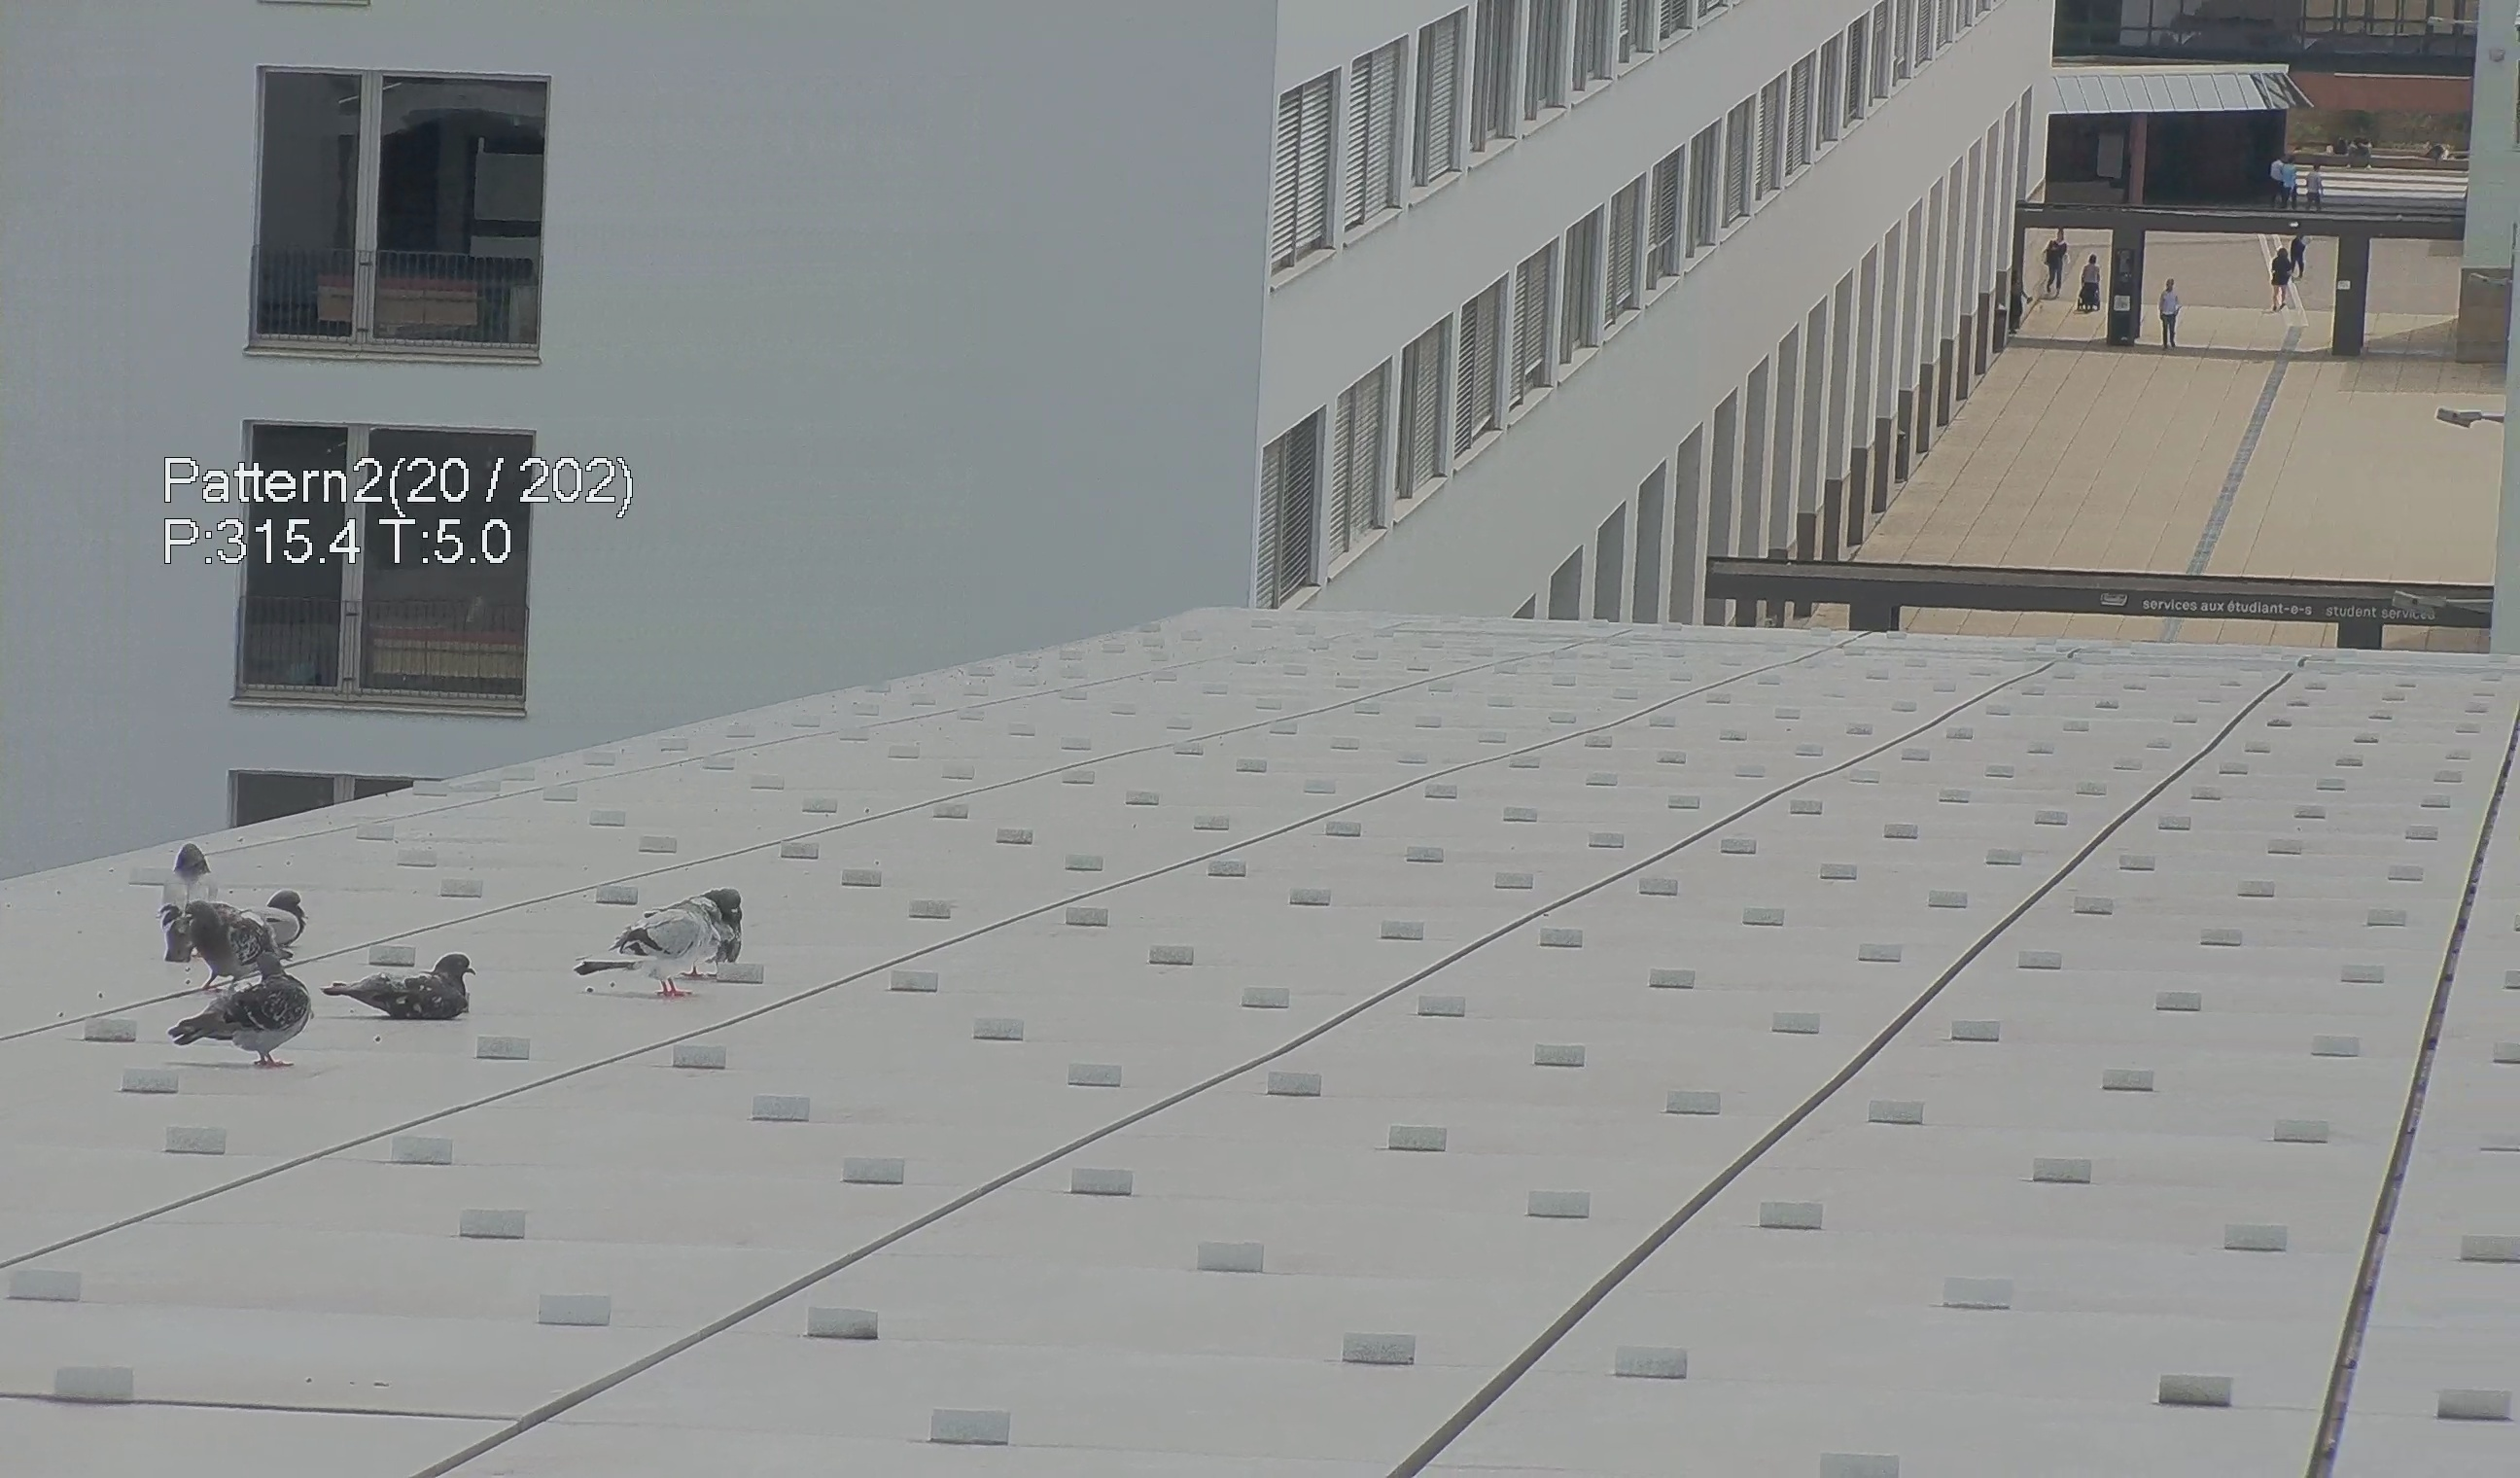Pigeon: (575, 880, 749, 999), (155, 950, 315, 1065), (339, 941, 466, 1033), (160, 838, 220, 971), (192, 897, 287, 980), (250, 887, 324, 962)
